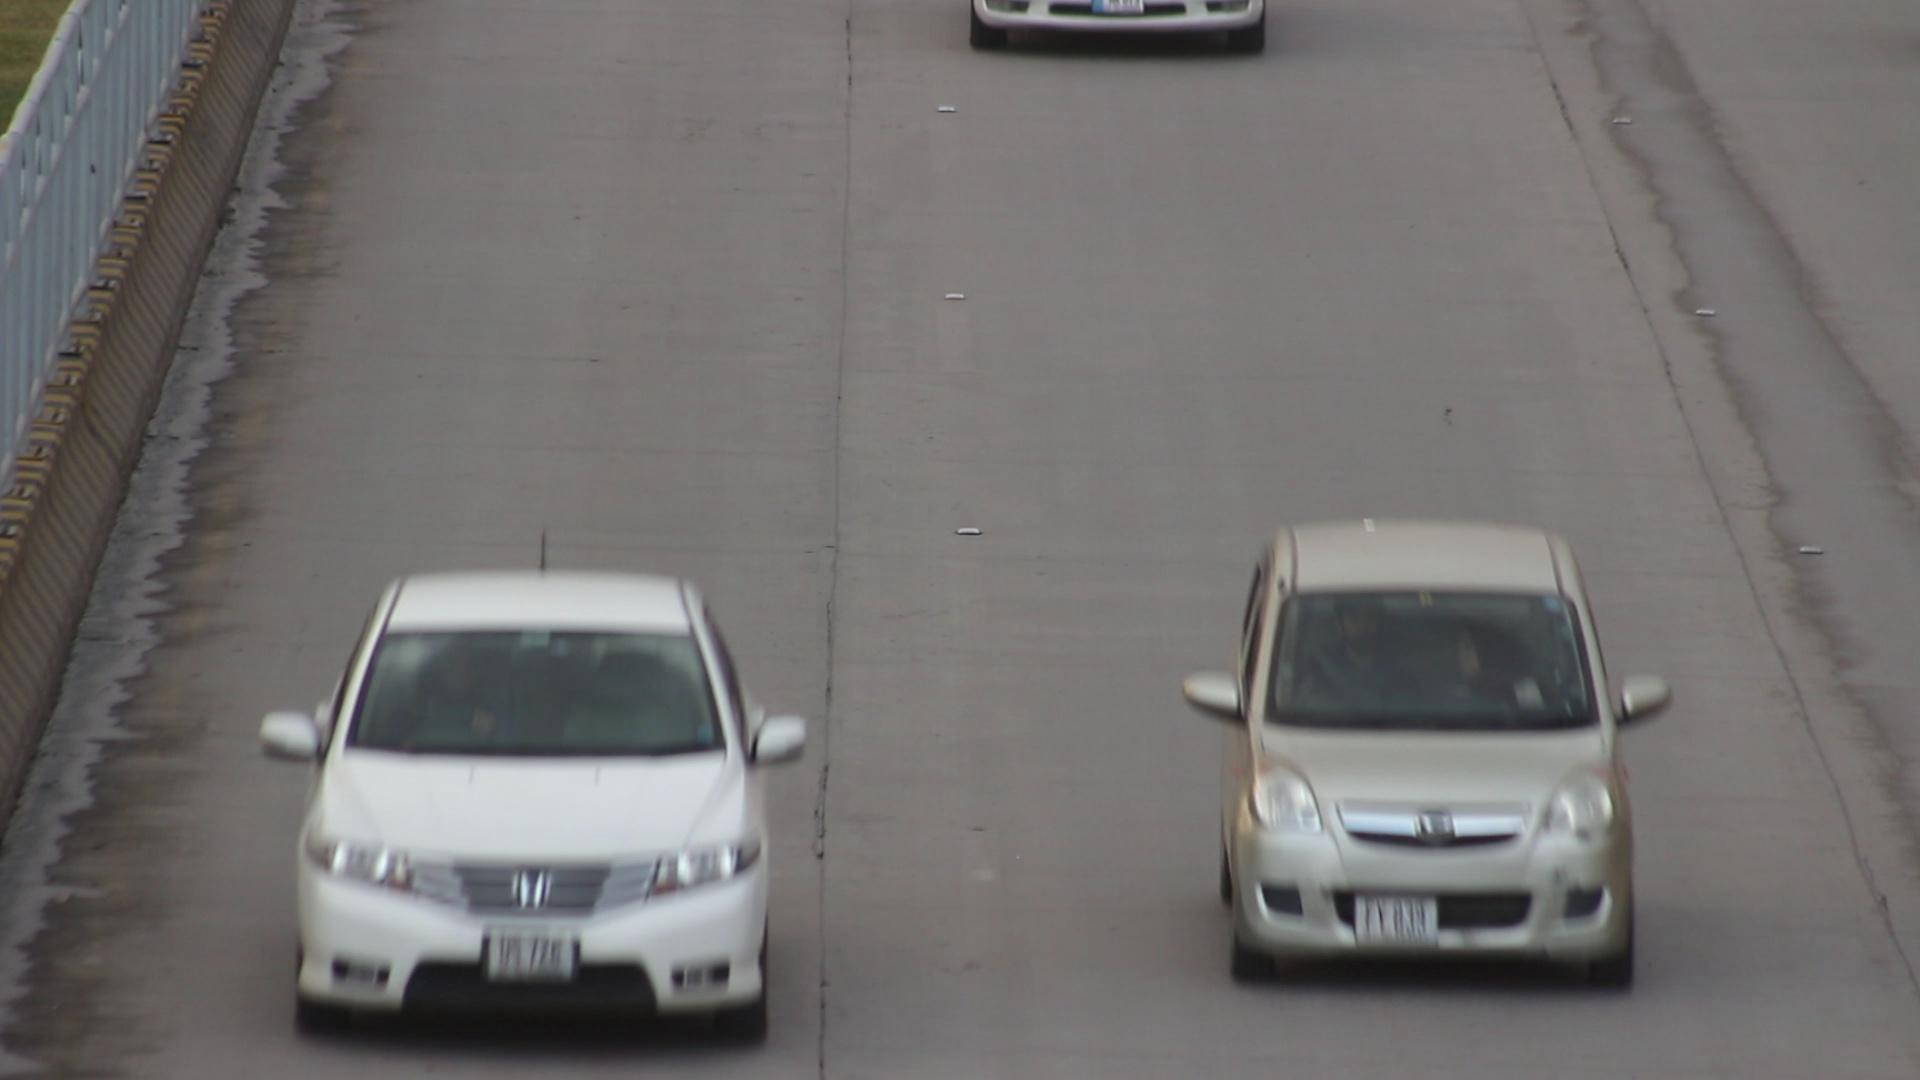windshield: (1257, 563, 1627, 737), (340, 613, 741, 764)
